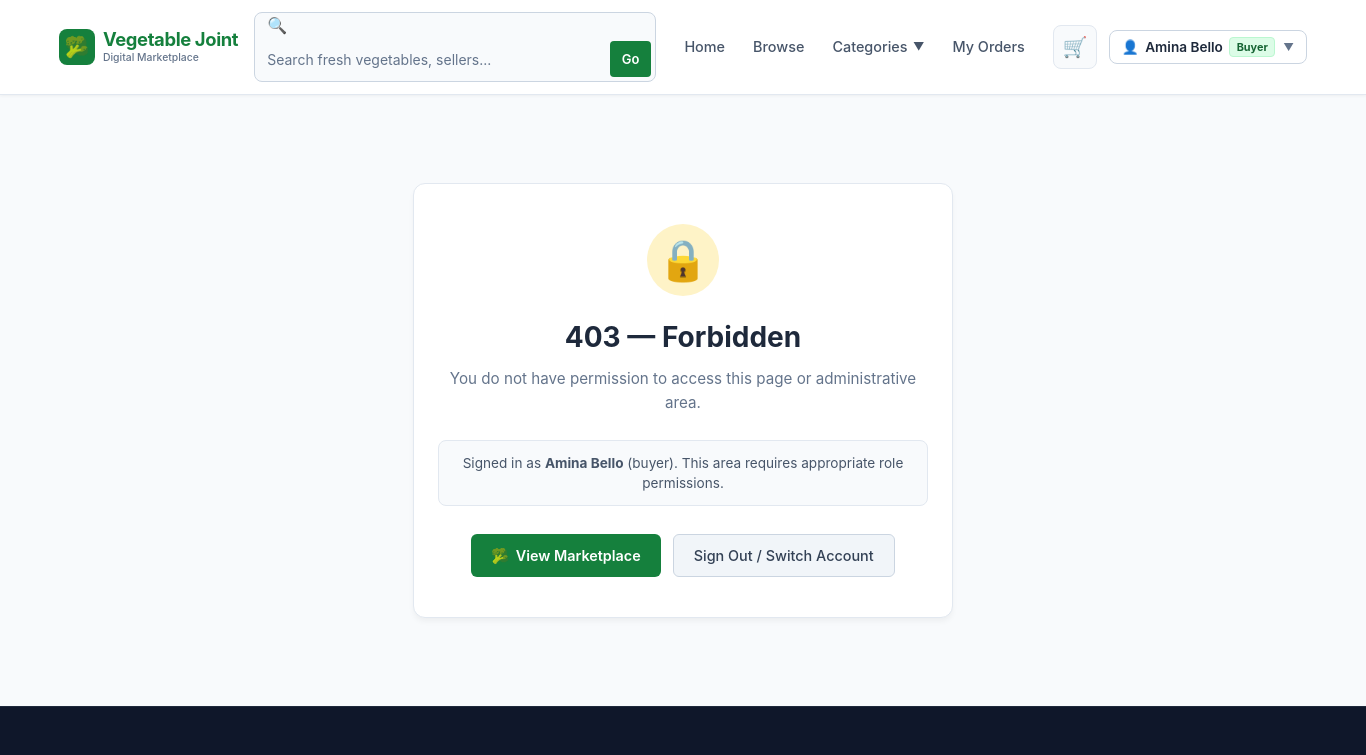
Test: FE-117: Role access checks in the UI (TC-28, AUTH-07) › 5. Forbidden Page Escape & Recovery Actions (ERR-04) › allows buyer on /403 page to safely return to marketplace via View Marketplace link
The width and height of the screenshot is (1366, 755).
Expected: the heading "403 — Forbidden" is shown, [565,320,801,354]
Step 1. Click the link "🥦 View Marketplace" → x=566, y=556, box [471,534,661,577]
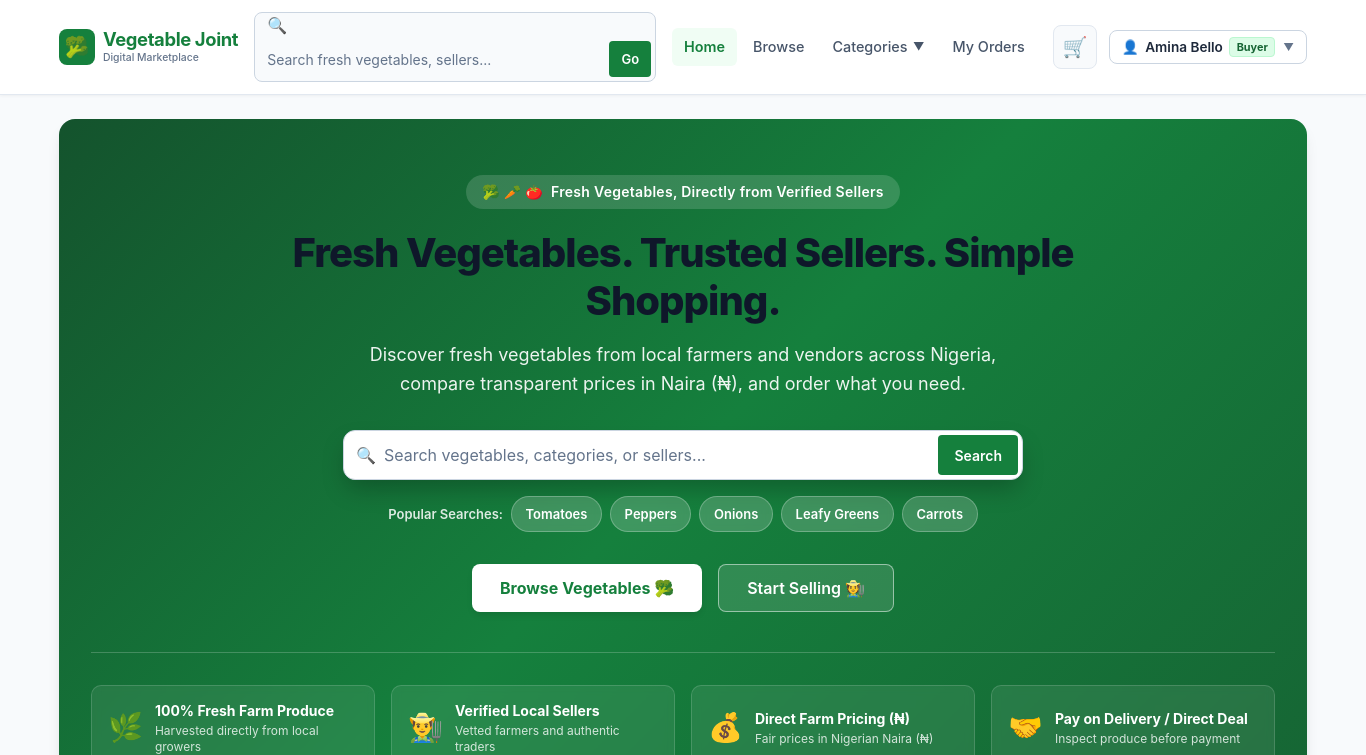
Expected: the text "Fresh Vegetables, Directly from Verified Sellers" is shown, [551,181,884,202]
Expected: the heading "403 — Forbidden" is gone
